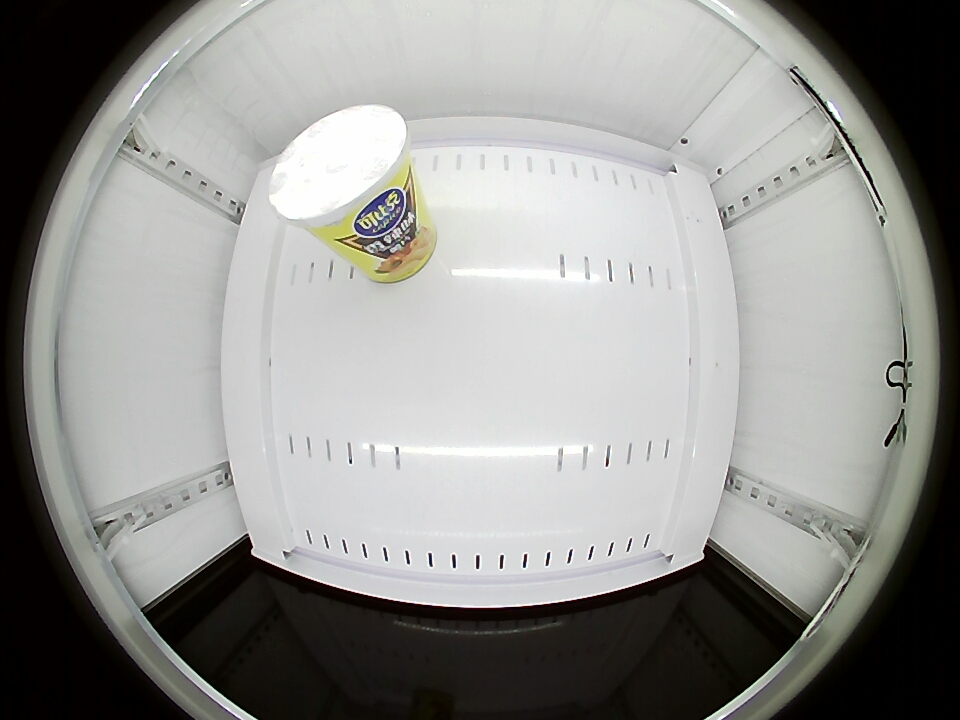kebike: (269, 104, 415, 245)
